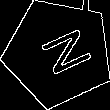N_SW: (27, 24, 90, 82)
